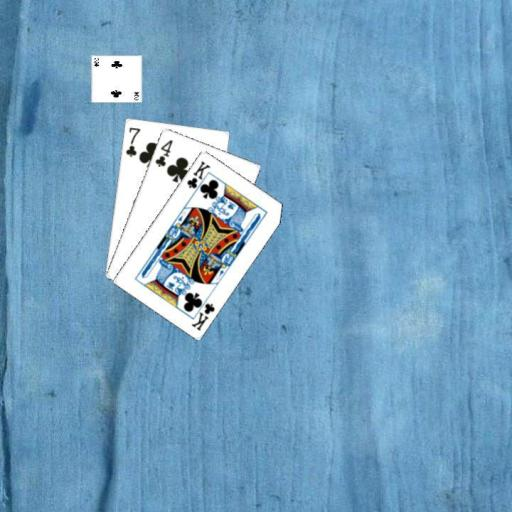4C: (152, 136, 174, 168)
7C: (123, 124, 142, 158)
KC: (183, 157, 212, 196), (189, 293, 216, 332)
